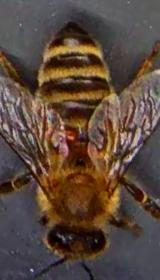varroa_mite: (51, 121, 79, 147)
